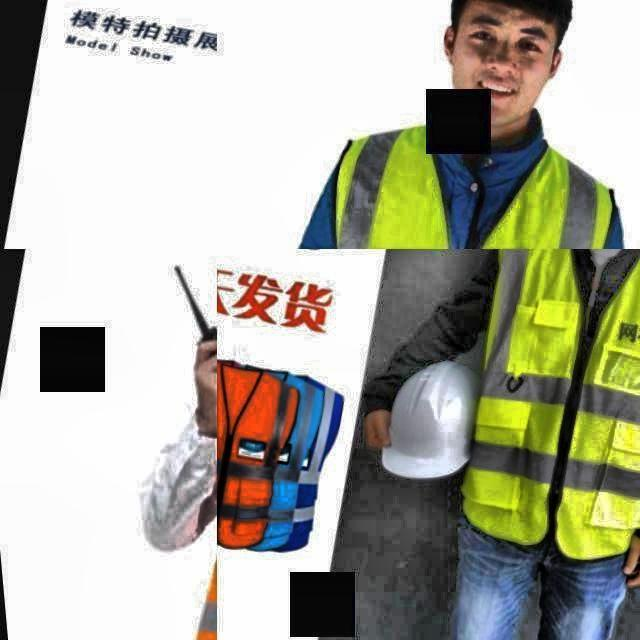safety_jacket: (420, 249, 640, 582), (238, 98, 636, 249), (146, 304, 217, 640), (217, 358, 300, 562)
